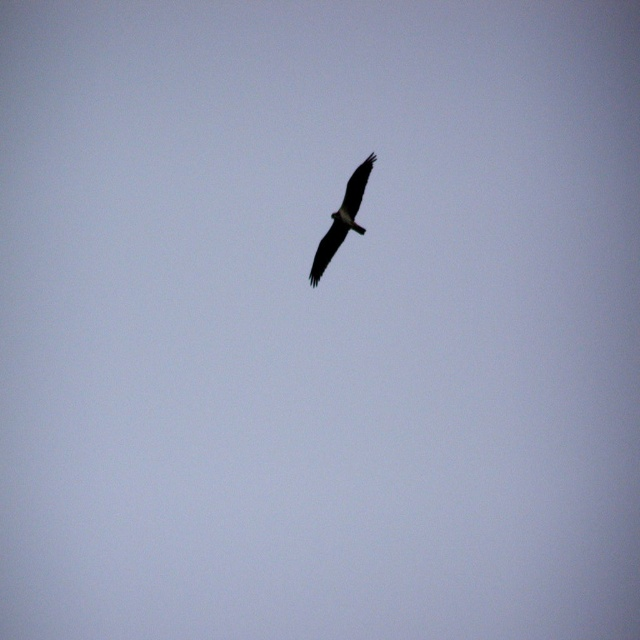Eagle: (307, 153, 378, 290)
